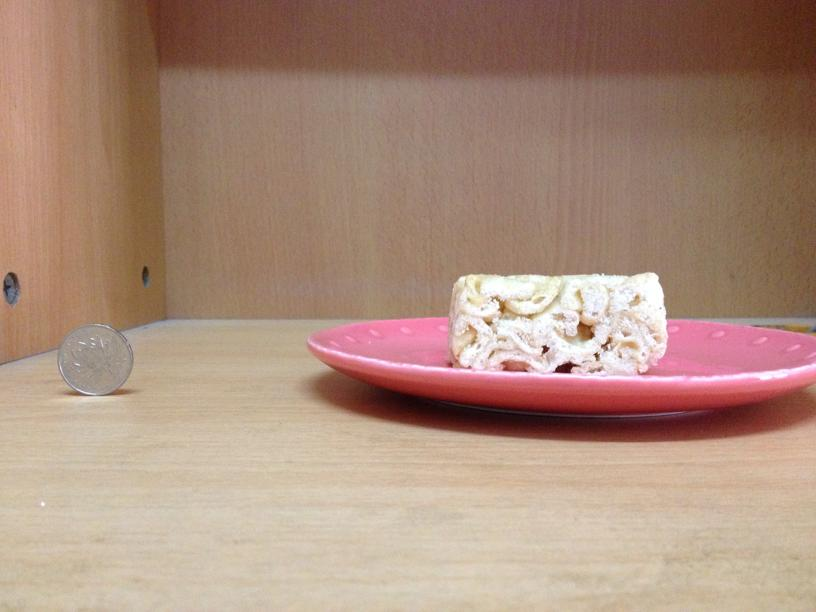coin: (54, 325, 135, 395)
sachima: (444, 270, 669, 377)
